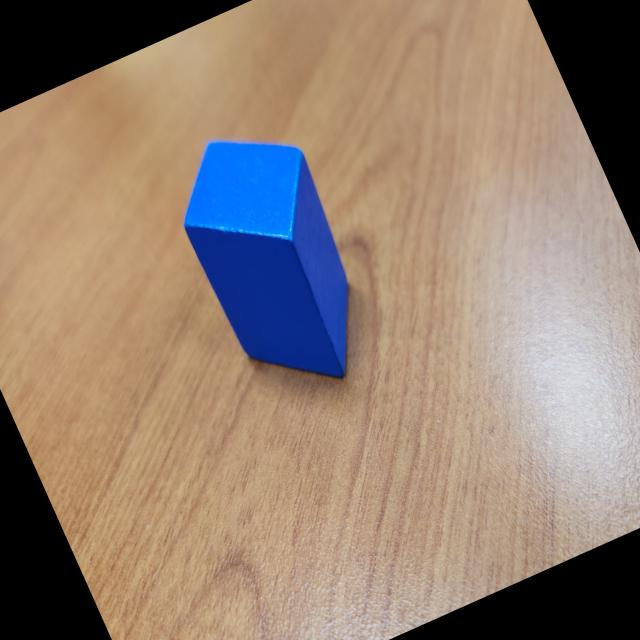blue: (155, 106, 394, 414)
